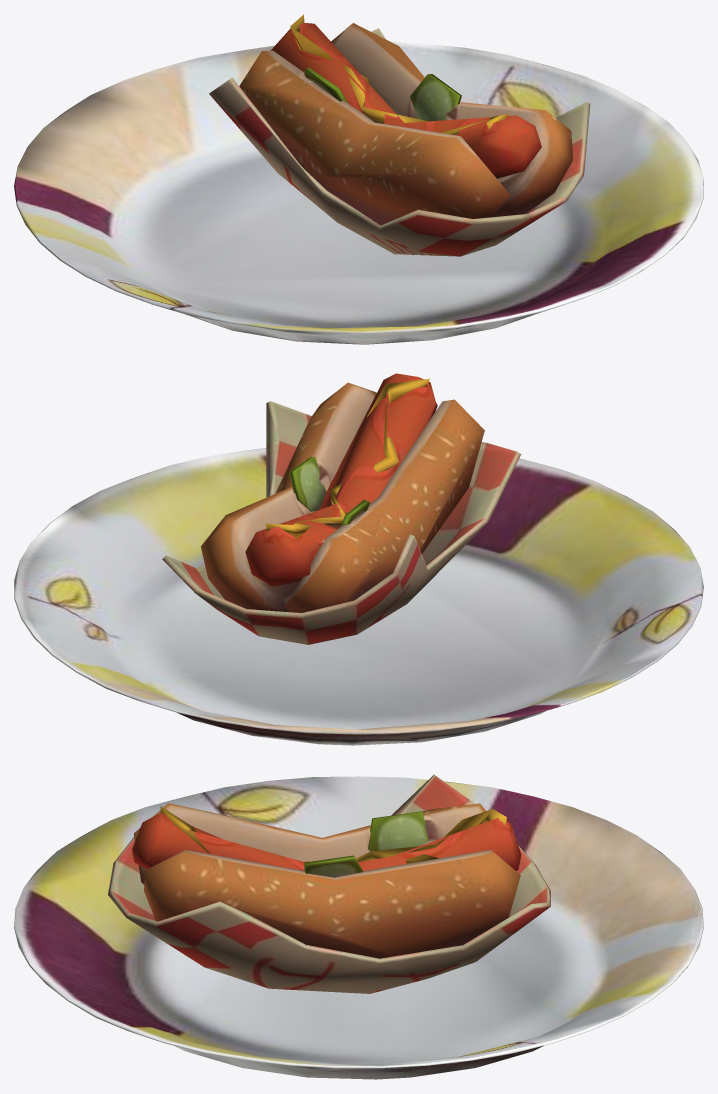
The model's file is perro caliente.glb.
The picture shows the model from 3 angles, top to bottom: view 1: azimuth 30°, elevation 25°; view 2: azimuth 150°, elevation 25°; view 3: azimuth 270°, elevation 25°; orthographic projection.
Visible parts, largest first — view 1: Object_2, Cube.002_HotDog_0.001; view 2: Object_2, Cube.002_HotDog_0.001; view 3: Object_2, Cube.002_HotDog_0.001.
Boxes of the visible parts, x1,y1,x2,y2 form: Object_2: (14,42,703,344); Cube.002_HotDog_0.001: (209,14,590,256); Object_2: (14,448,703,745); Cube.002_HotDog_0.001: (162,373,521,644); Object_2: (14,776,703,1079); Cube.002_HotDog_0.001: (108,774,550,993).
Size of the model in its own units: 11.65 by 3.35 by 11.66.
2 materials, 2 textured.
